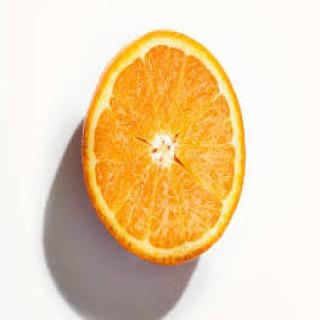orange: (70, 17, 252, 277)
